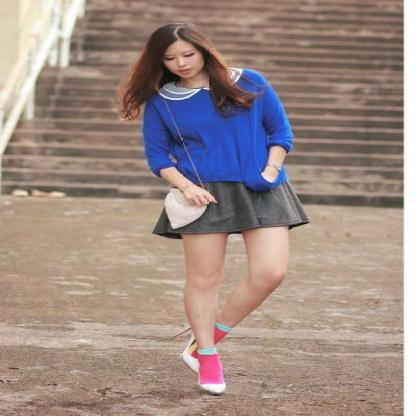bag: (165, 195, 205, 224)
jacket: (142, 67, 292, 187)
shoe: (180, 326, 232, 392)
skirt: (152, 180, 317, 238)
